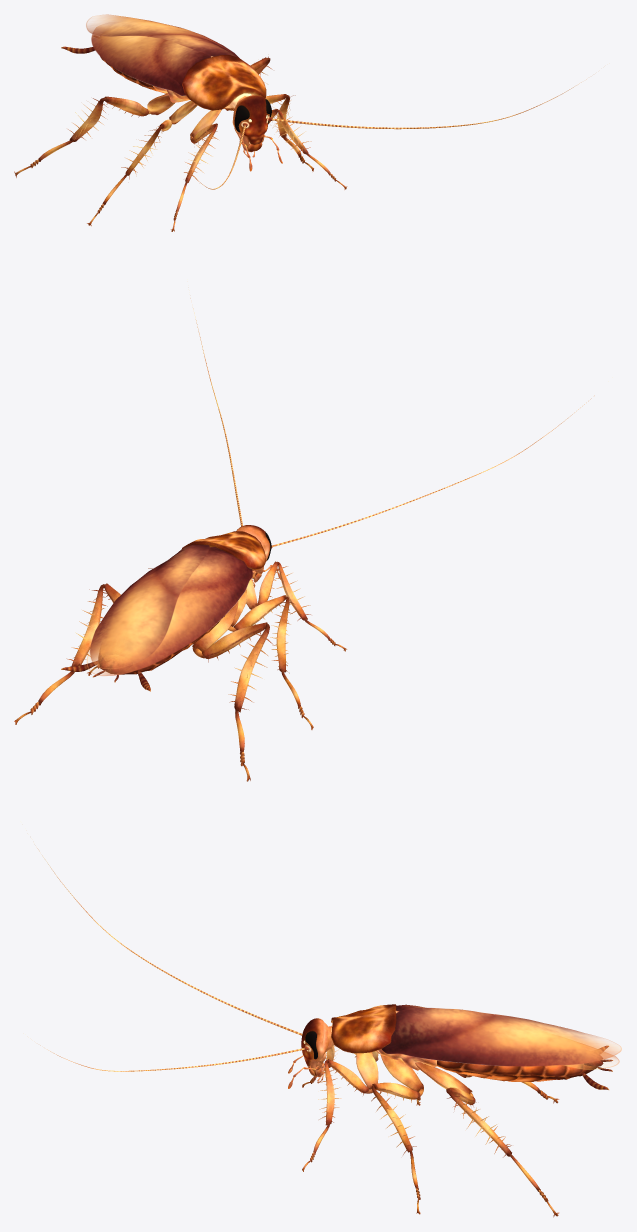
Rendered from roach.glb.
3 renders of one model, top to bottom at view 1: azimuth 30°, elevation 25°; view 2: azimuth 150°, elevation 25°; view 3: azimuth 270°, elevation 25°, orthographic.
Parts seen in each view (by area): view 1: R_mesothorax, Body, L_mesothorax, Head, R_hindleg, R_forleg, R_midleg, L_midleg, L_antena, L_forleg; view 2: R_mesothorax, L_mesothorax, R_hindleg, Body, R_midleg, L_hindleg, R_forleg; view 3: L_mesothorax, Body, L_midleg, L_hindleg, L_forleg, Head.
Part boxes in pixels (bbox=[...]): R_mesothorax: bbox=[91, 25, 211, 95]; Body: bbox=[61, 36, 266, 110]; L_mesothorax: bbox=[86, 14, 238, 57]; Head: bbox=[232, 95, 282, 171]; R_hindleg: bbox=[14, 93, 174, 177]; R_forleg: bbox=[170, 109, 221, 231]; R_midleg: bbox=[87, 100, 197, 226]; L_midleg: bbox=[225, 94, 313, 171]; L_antena: bbox=[272, 79, 586, 129]; L_forleg: bbox=[269, 109, 347, 189]; R_mesothorax: bbox=[87, 547, 252, 675]; L_mesothorax: bbox=[90, 544, 209, 668]; R_hindleg: bbox=[192, 601, 273, 781]; Body: bbox=[61, 531, 265, 691]; R_midleg: bbox=[228, 588, 313, 729]; L_hindleg: bbox=[14, 583, 120, 724]; R_forleg: bbox=[246, 561, 347, 651]; L_mesothorax: bbox=[381, 1008, 621, 1066]; Body: bbox=[331, 1004, 612, 1089]; L_midleg: bbox=[371, 1055, 423, 1214]; L_hindleg: bbox=[415, 1062, 559, 1217]; L_forleg: bbox=[302, 1052, 378, 1171]; Head: bbox=[288, 1018, 333, 1088].
Bounding box in the file's own units: 8.39 × 4.44 × 10.08.
5 materials, 5 textured.
